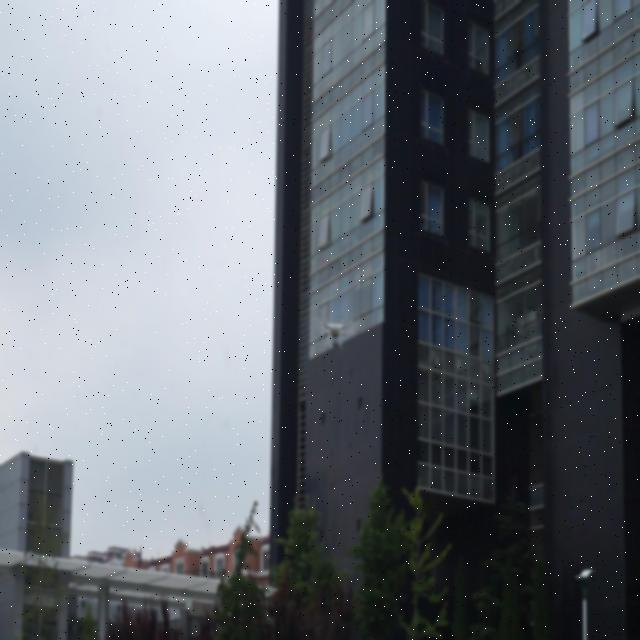UAV: (314, 317, 355, 351)
